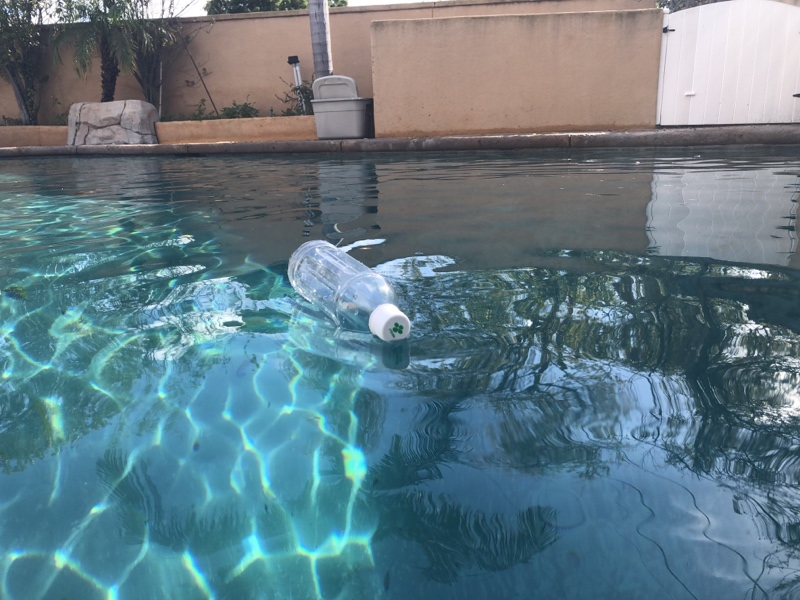Plastic Bottle: (282, 239, 415, 346)
